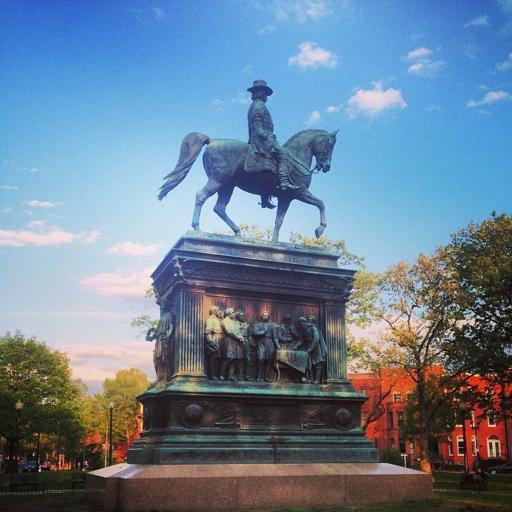horse: (155, 128, 342, 243)
